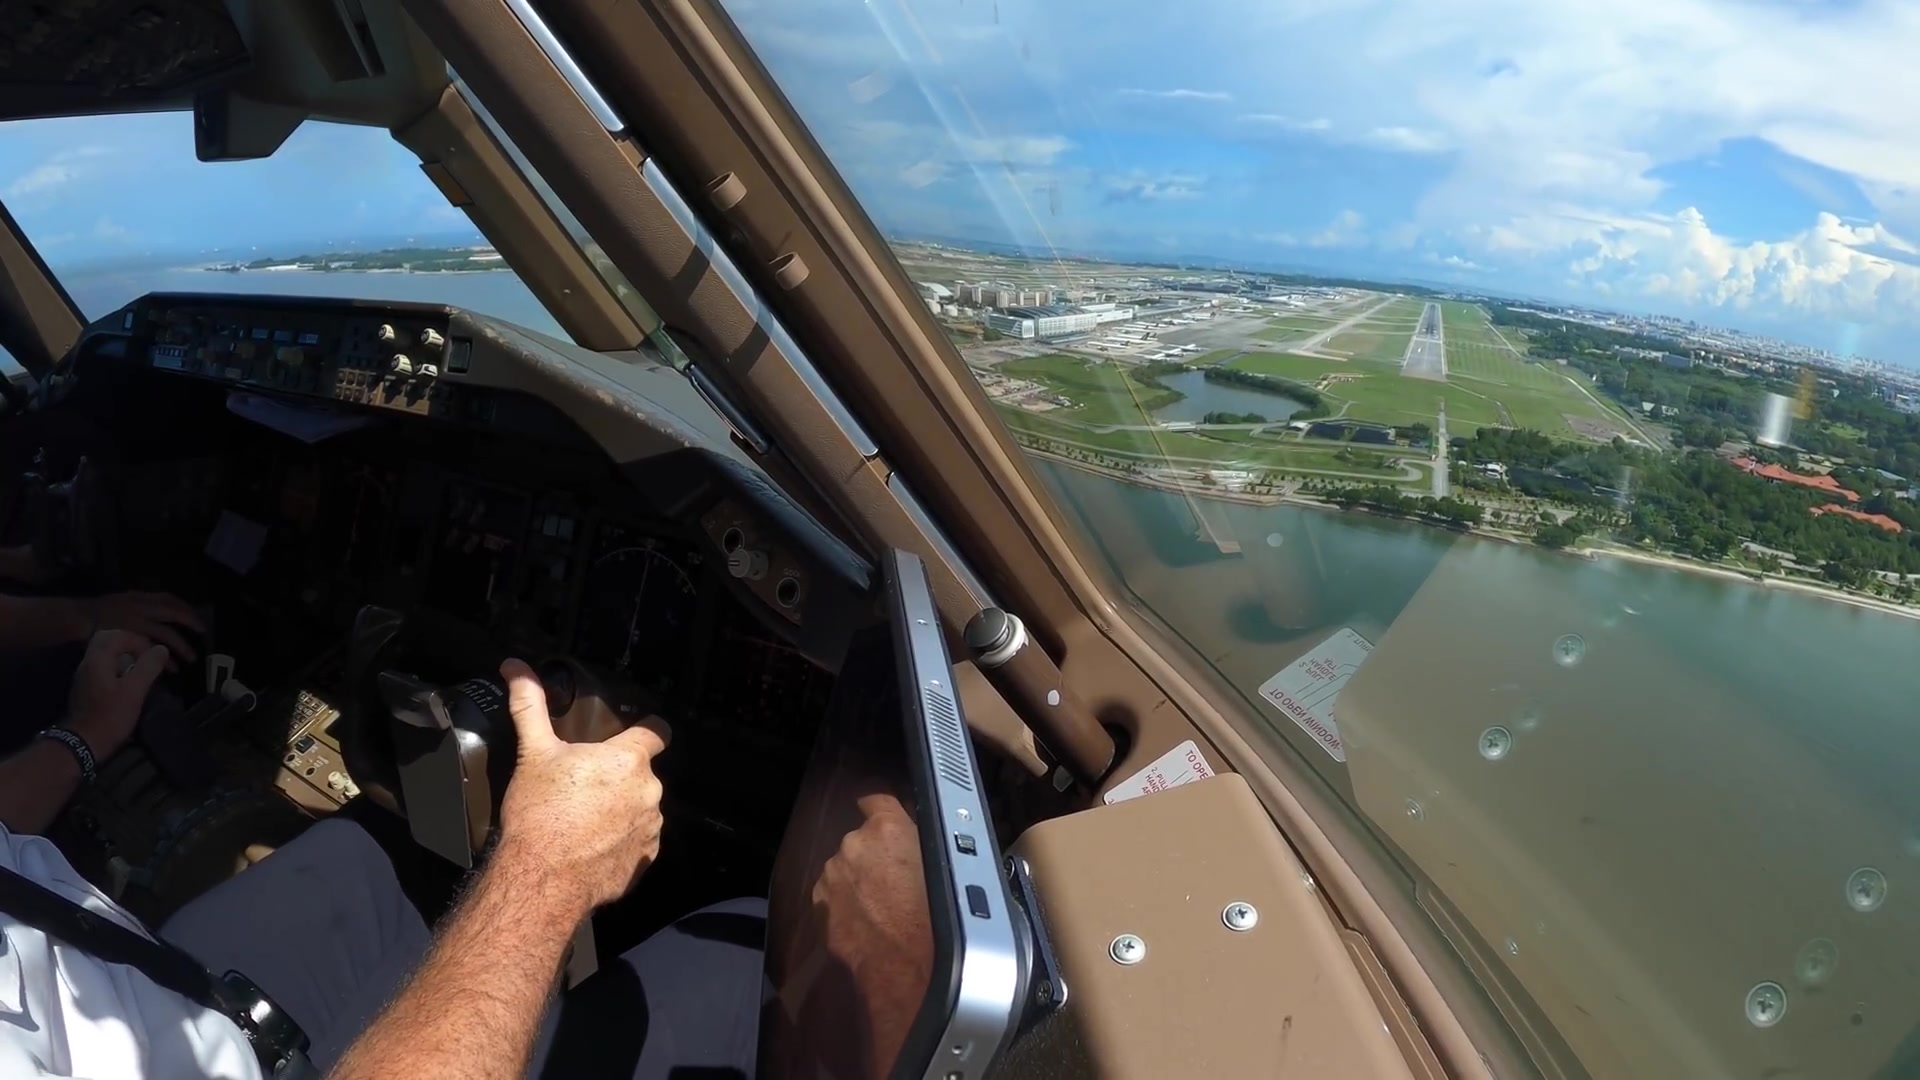runway: (1400, 303, 1447, 382)
